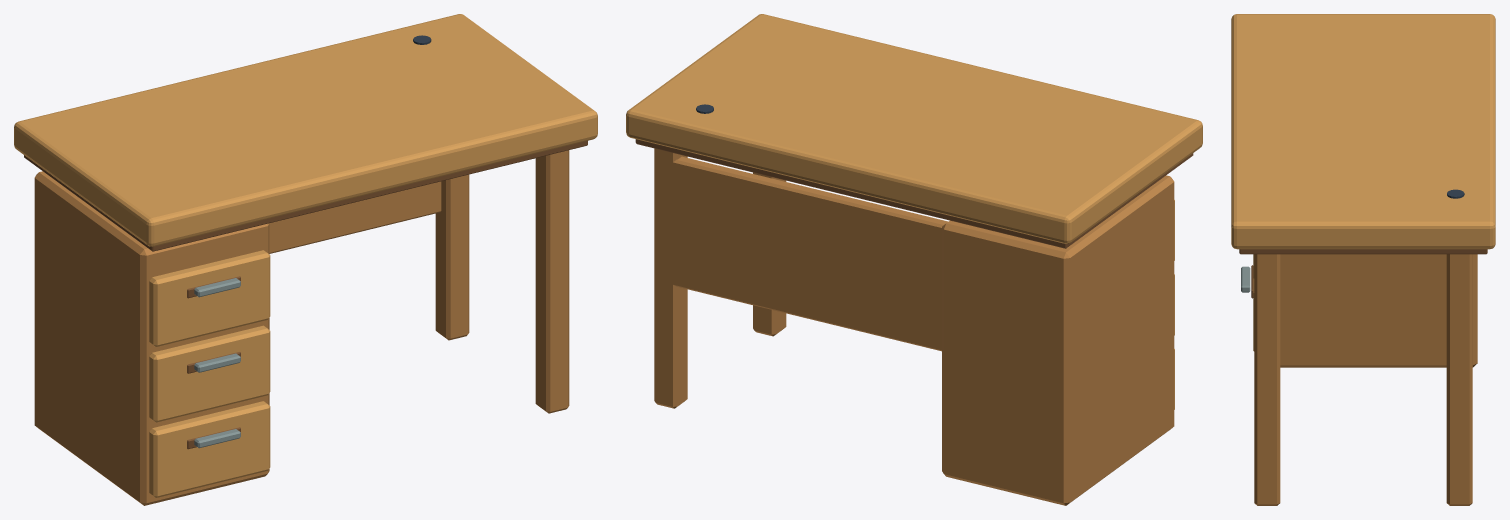
The model's file is desk_compact.glb.
3 renders of one model, left to right at view 1: azimuth 30°, elevation 25°; view 2: azimuth 150°, elevation 25°; view 3: azimuth 270°, elevation 25°, orthographic. The views are drawn at different scales.
Visible parts, largest first — view 1: desk_compact__oak_top, desk_compact__oak, desk_compact__oak_dark, desk_compact__metal_light; view 2: desk_compact__oak, desk_compact__oak_top, desk_compact__oak_dark; view 3: desk_compact__oak_top, desk_compact__oak, desk_compact__oak_dark.
Boxes of the visible parts, x1,y1,x2,y2 form: desk_compact__oak_top: (14,14,597,497); desk_compact__oak: (34,150,569,505); desk_compact__oak_dark: (24,141,587,449); desk_compact__metal_light: (194,278,240,448); desk_compact__oak: (654,148,1174,505); desk_compact__oak_top: (626,14,1202,409); desk_compact__oak_dark: (635,139,1193,248); desk_compact__oak_top: (1231,14,1495,351); desk_compact__oak: (1254,254,1477,505); desk_compact__oak_dark: (1239,249,1487,298).
Size of the model in its own units: 1.25 by 0.8075 by 0.66.
